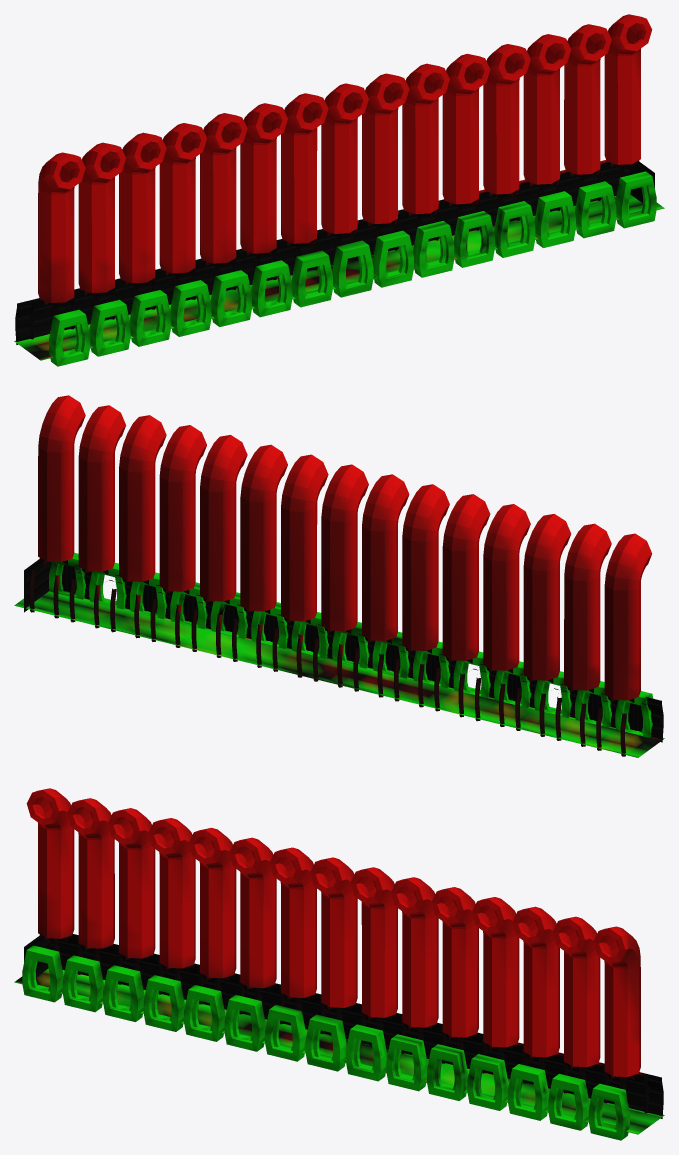
File: door_hallway.glb
3 views of the same model, one above another, from view 1: azimuth 30°, elevation 25°; view 2: azimuth 150°, elevation 25°; view 3: azimuth 330°, elevation 25° (orthographic).
Visible parts, largest first — view 1: Door_Hallway_Ceiling, Door_Hallway_Doorframes, Door_Hallway_Wall_Panels, Door_Hallway_Floor; view 2: Door_Hallway_Ceiling, Door_Hallway_Wall_Panels, Door_Hallway_Doorframes, Door_Hallway_Floor; view 3: Door_Hallway_Ceiling, Door_Hallway_Doorframes, Door_Hallway_Wall_Panels, Door_Hallway_Floor.
Boxes of the visible parts, <box> form: Door_Hallway_Ceiling: <box>32,14,652,312</box>; Door_Hallway_Doorframes: <box>49,171,656,366</box>; Door_Hallway_Wall_Panels: <box>15,160,654,344</box>; Door_Hallway_Floor: <box>14,194,664,360</box>; Door_Hallway_Ceiling: <box>38,395,652,709</box>; Door_Hallway_Wall_Panels: <box>24,558,663,756</box>; Door_Hallway_Doorframes: <box>49,552,653,737</box>; Door_Hallway_Floor: <box>14,591,664,757</box>; Door_Hallway_Ceiling: <box>26,788,646,1086</box>; Door_Hallway_Doorframes: <box>22,945,629,1140</box>; Door_Hallway_Wall_Panels: <box>24,934,663,1118</box>; Door_Hallway_Floor: <box>14,968,664,1134</box>.
Size of what is drawn, in the model's own units: 54 by 16.97 by 4.75.
